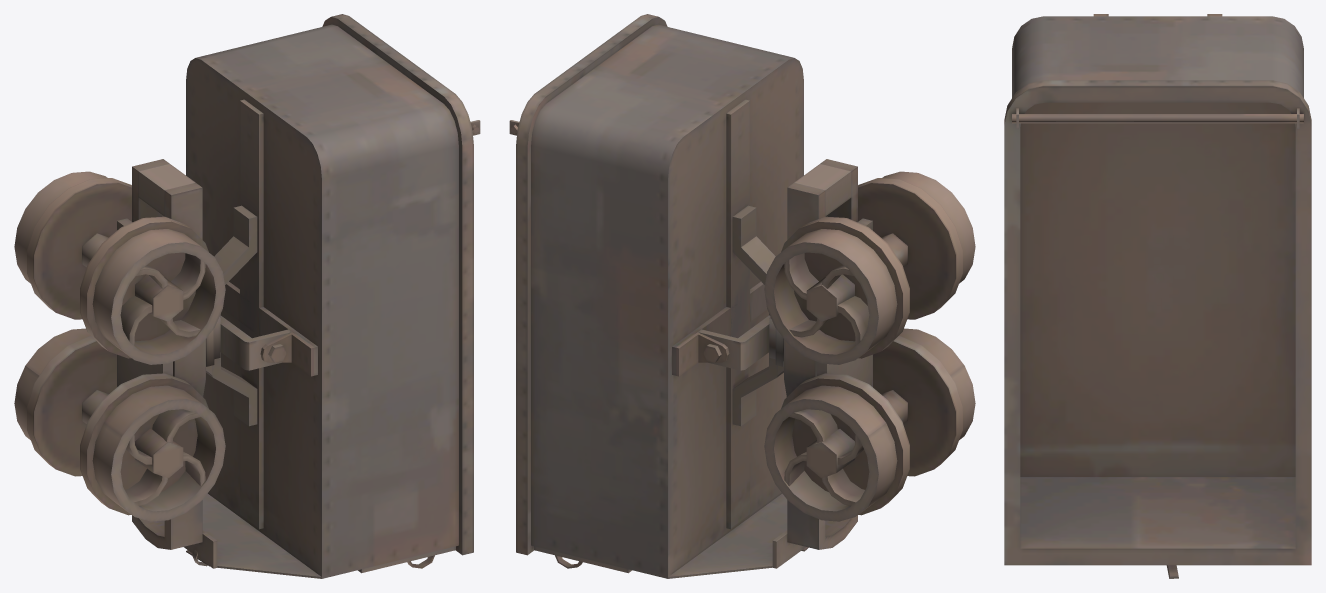
File: props_vehicles_mining_car_metal.glb
The picture shows the model from 3 angles, left to right: view 1: azimuth 30°, elevation 25°; view 2: azimuth 150°, elevation 25°; view 3: azimuth 270°, elevation 25°; orthographic projection. The views are drawn at different scales.
Parts seen in each view (by area): view 1: models/props_vehicles/mining_car_metal; view 2: models/props_vehicles/mining_car_metal; view 3: models/props_vehicles/mining_car_metal.
Part boxes in pixels (x1,y1,x2,y2): models/props_vehicles/mining_car_metal: (14,14,480,578); models/props_vehicles/mining_car_metal: (509,14,975,578); models/props_vehicles/mining_car_metal: (1004,14,1311,578).
Size of the model in its own units: 68.33 by 83.08 by 47.31.
1 material, 1 textured.
